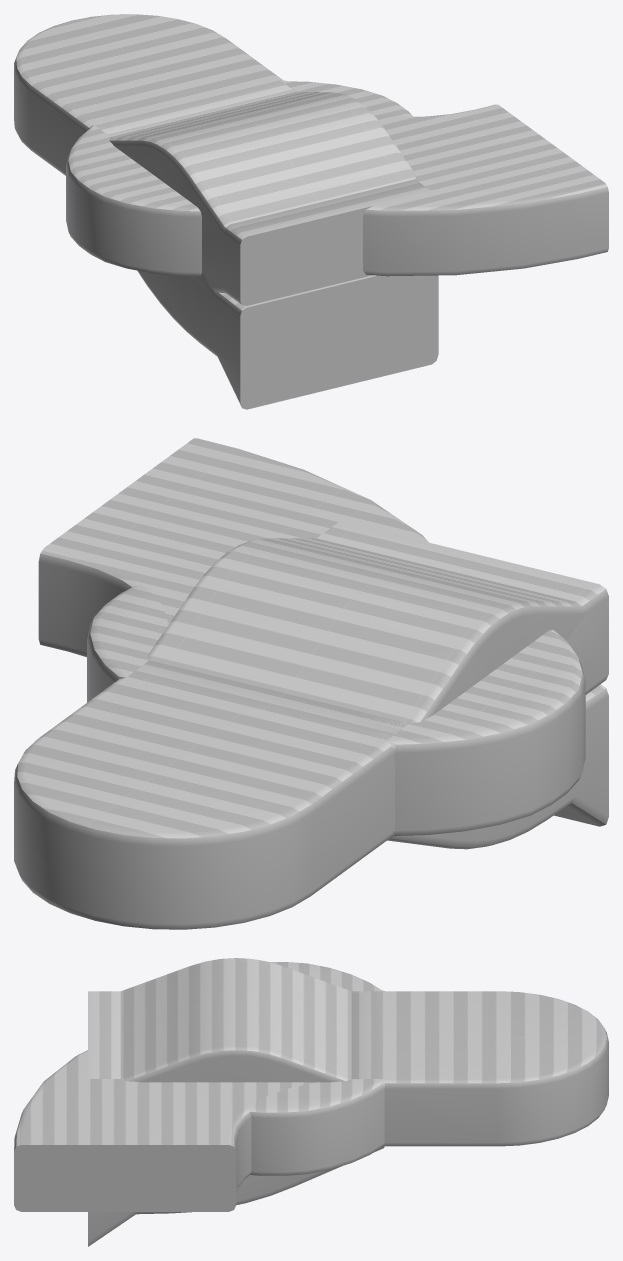
Rendered from Floor_2x3_BothSoft_thick.fbx.
The picture shows the model from 3 angles, top to bottom: view 1: azimuth 30°, elevation 25°; view 2: azimuth 150°, elevation 25°; view 3: azimuth 270°, elevation 25°; orthographic projection. The views are drawn at different scales.
Visible parts, largest first — view 1: Floor_2x3_BS_T_rotate, Floor_2x3_BS_T_hill, Floor_2x3_BS_T_cap, Floor_2x3_BS_T_deep2, Floor_2x3_BS_T_circle, Floor_2x3_BS_T_ramp1, Floor_2x3_BS_T_ramp2, Floor_2x3_BS_T_deep1; view 2: Floor_2x3_BS_T_cap, Floor_2x3_BS_T_hill, Floor_2x3_BS_T_circle, Floor_2x3_BS_T_rotate, Floor_2x3_BS_T_deep2, Floor_2x3_BS_T_ramp2, Floor_2x3_BS_T_ramp1, Floor_2x3_BS_T_deep1; view 3: Floor_2x3_BS_T_cap, Floor_2x3_BS_T_rotate, Floor_2x3_BS_T_hill, Floor_2x3_BS_T_circle, Floor_2x3_BS_T_deep2, Floor_2x3_BS_T_ramp2, Floor_2x3_BS_T_ramp1.
Boxes of the visible parts, box(x1,y1,x2,y2) form: Floor_2x3_BS_T_rotate: box(292, 89, 608, 276); Floor_2x3_BS_T_hill: box(109, 92, 416, 305); Floor_2x3_BS_T_cap: box(14, 14, 282, 175); Floor_2x3_BS_T_deep2: box(94, 80, 431, 305); Floor_2x3_BS_T_circle: box(66, 79, 412, 276); Floor_2x3_BS_T_ramp1: box(190, 271, 438, 409); Floor_2x3_BS_T_ramp2: box(137, 270, 438, 371); Floor_2x3_BS_T_deep1: box(202, 206, 371, 305); Floor_2x3_BS_T_cap: box(14, 678, 394, 929); Floor_2x3_BS_T_hill: box(147, 538, 608, 723); Floor_2x3_BS_T_circle: box(87, 584, 585, 836); Floor_2x3_BS_T_rotate: box(38, 438, 428, 664); Floor_2x3_BS_T_deep2: box(126, 521, 608, 740); Floor_2x3_BS_T_ramp2: box(387, 684, 608, 849); Floor_2x3_BS_T_ramp1: box(554, 773, 608, 826); Floor_2x3_BS_T_deep1: box(567, 600, 608, 694); Floor_2x3_BS_T_cap: box(384, 991, 608, 1146); Floor_2x3_BS_T_rotate: box(14, 1050, 359, 1211); Floor_2x3_BS_T_hill: box(120, 958, 351, 1082); Floor_2x3_BS_T_circle: box(247, 962, 384, 1175); Floor_2x3_BS_T_deep2: box(88, 991, 384, 1078); Floor_2x3_BS_T_ramp2: box(135, 1144, 384, 1214); Floor_2x3_BS_T_ramp1: box(88, 1212, 135, 1246).
Size of the model in its own units: 594 by 299 by 803.
